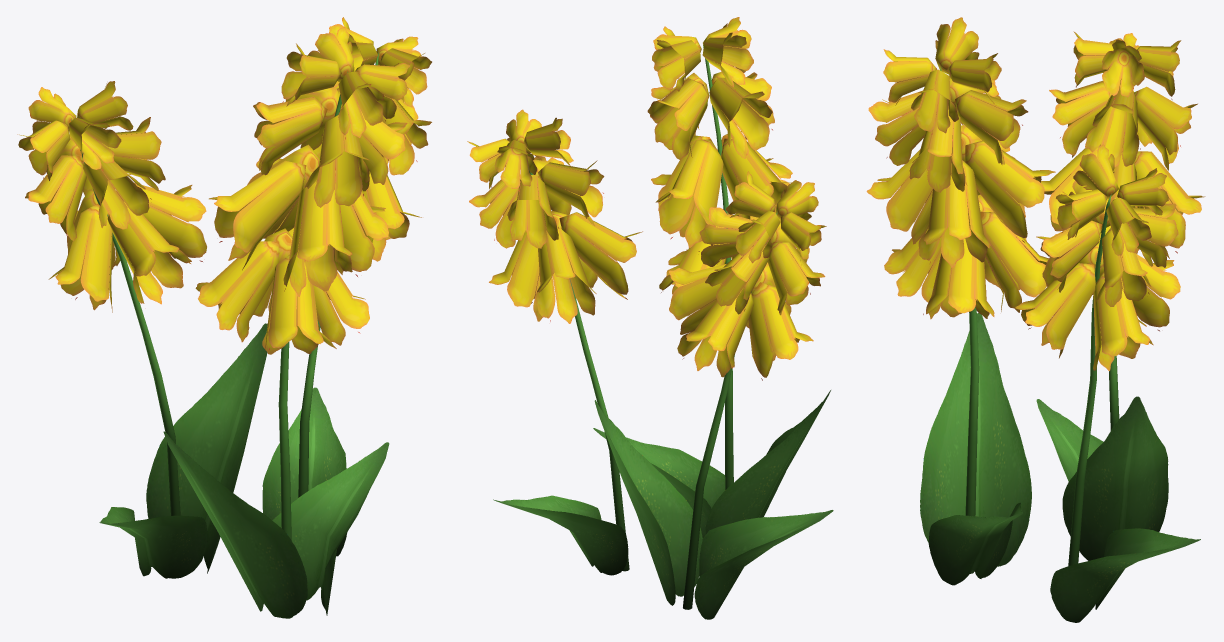
The model's file is Flower_4_Group.gltf.
The picture shows the model from 3 angles, left to right: view 1: azimuth 30°, elevation 25°; view 2: azimuth 150°, elevation 25°; view 3: azimuth 270°, elevation 25°; orthographic projection. The views are drawn at different scales.
Parts seen in each view (by area): view 1: Flower_4_Group; view 2: Flower_4_Group; view 3: Flower_4_Group.
Part boxes in pixels (left/top/right/bottom): Flower_4_Group: left=17, top=17, right=431, bottom=618; Flower_4_Group: left=467, top=17, right=833, bottom=619; Flower_4_Group: left=866, top=17, right=1205, bottom=622.
Size of the model in its own units: 1.78 by 2.49 by 1.37.
Materials: 2 (2 with a texture image).
